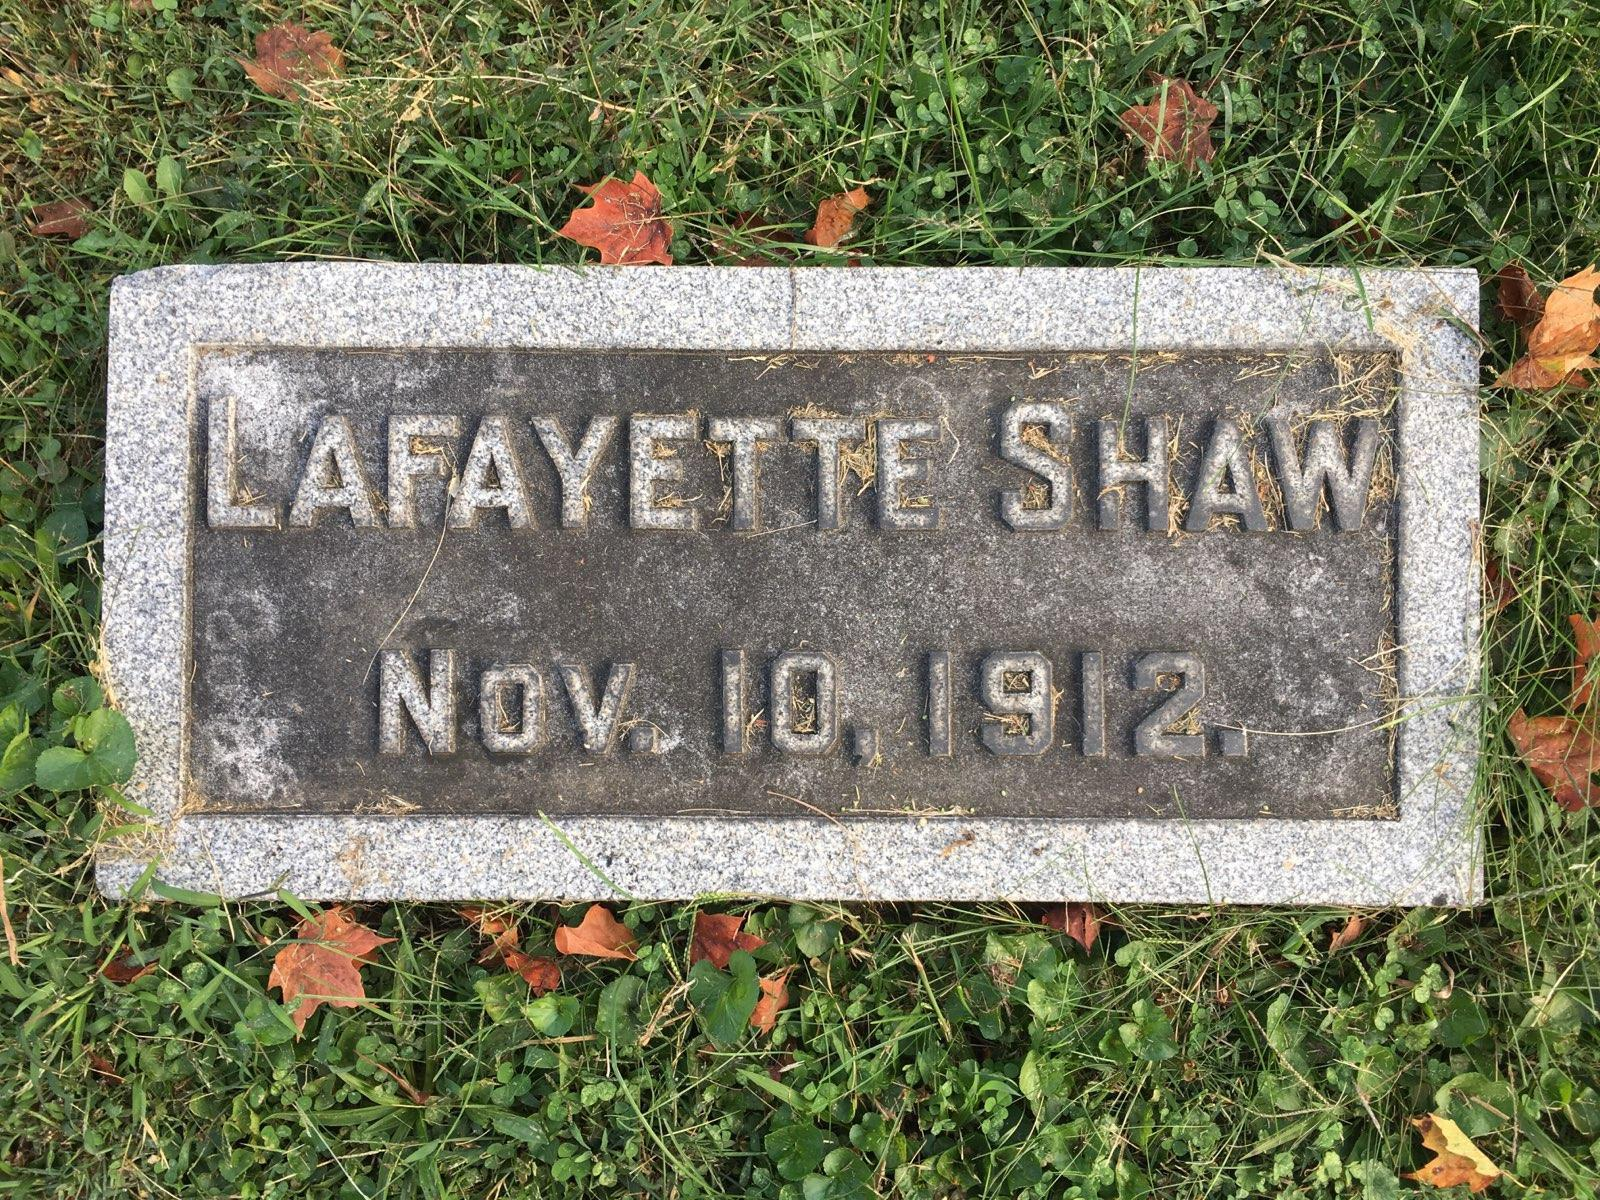flat: (116, 223, 1490, 937)
